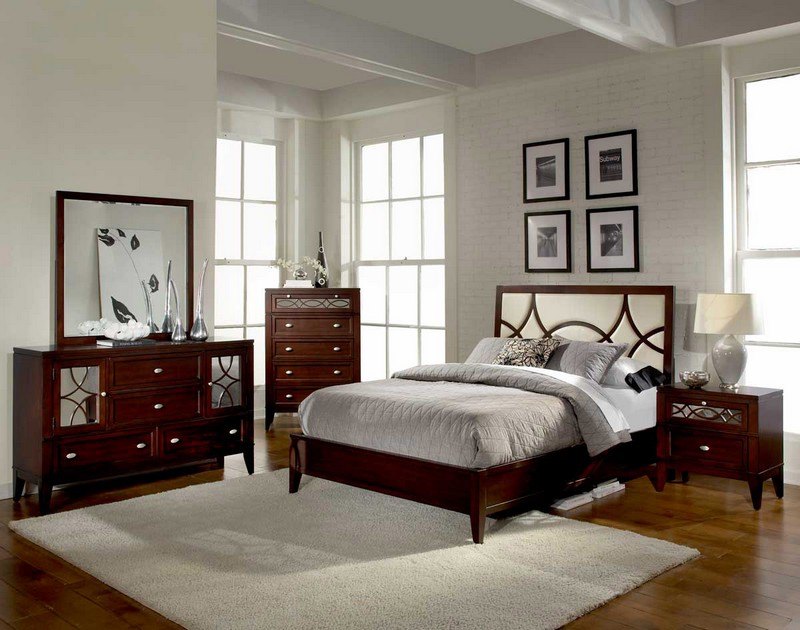bed: (292, 282, 681, 522)
lamp: (691, 290, 763, 390)
stool: (654, 380, 789, 514)
